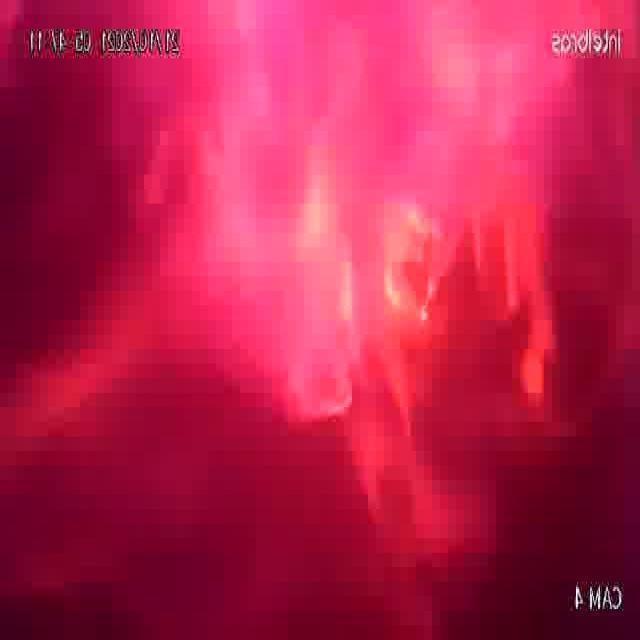Fire: (286, 67, 596, 483)
